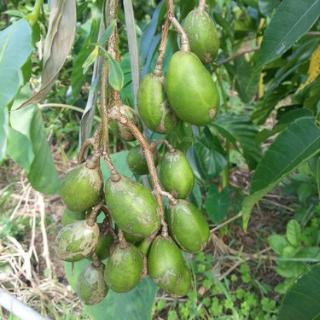coc: (165, 51, 221, 126), (104, 174, 159, 238), (148, 236, 191, 297), (166, 196, 209, 254), (54, 218, 97, 262), (106, 242, 142, 293)
